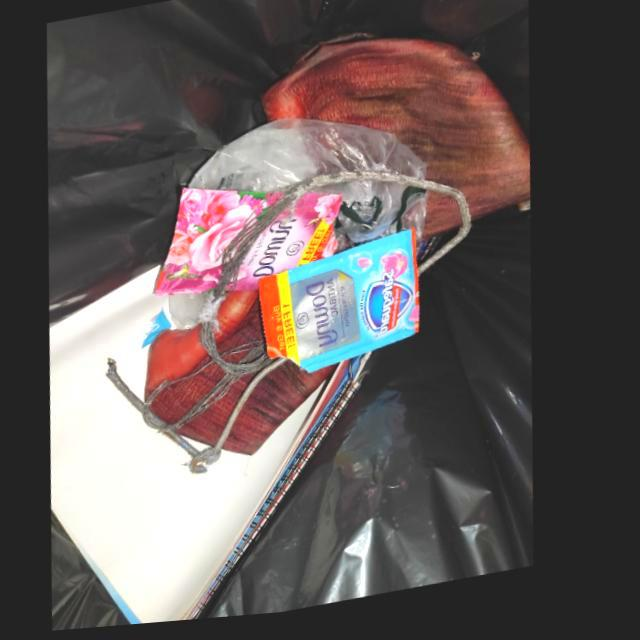cardboard: (55, 268, 379, 628)
plastic_bag: (188, 122, 432, 252)
plastic_sachet: (264, 235, 426, 379), (159, 190, 346, 299)
